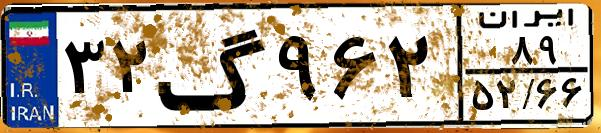2: (385, 28, 445, 110), (110, 28, 156, 98), (495, 70, 520, 125)
3: (57, 26, 110, 100)
5: (470, 70, 495, 125)
6: (330, 28, 385, 110), (560, 70, 590, 125), (535, 70, 560, 125)
8: (508, 27, 537, 80)
9: (270, 28, 330, 110), (537, 27, 568, 80)
گ: (156, 12, 270, 120)
